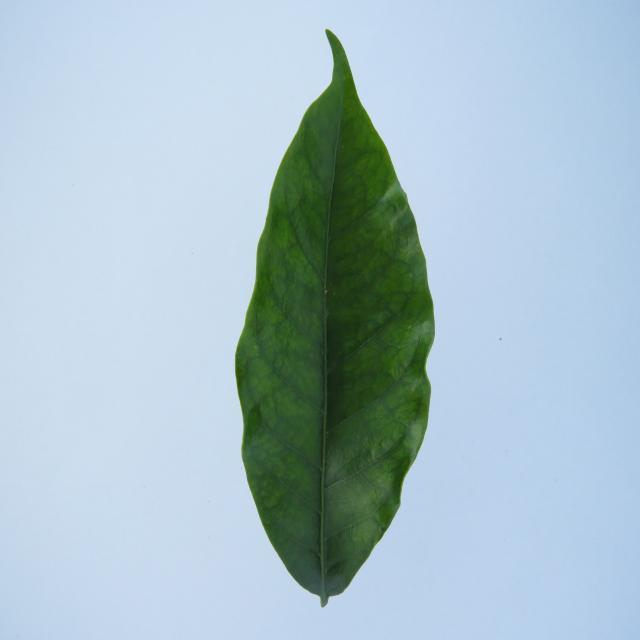DeficienciaNutricional-Hierro: (235, 30, 434, 607)
